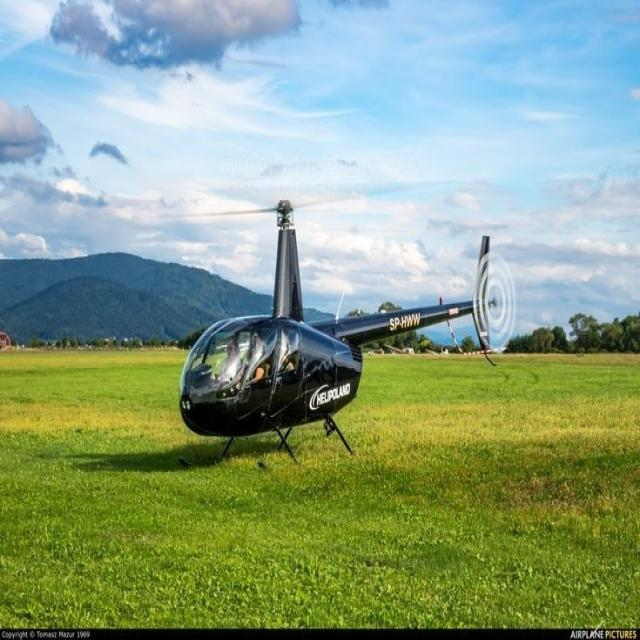CIV_HELO: (175, 199, 501, 482)
